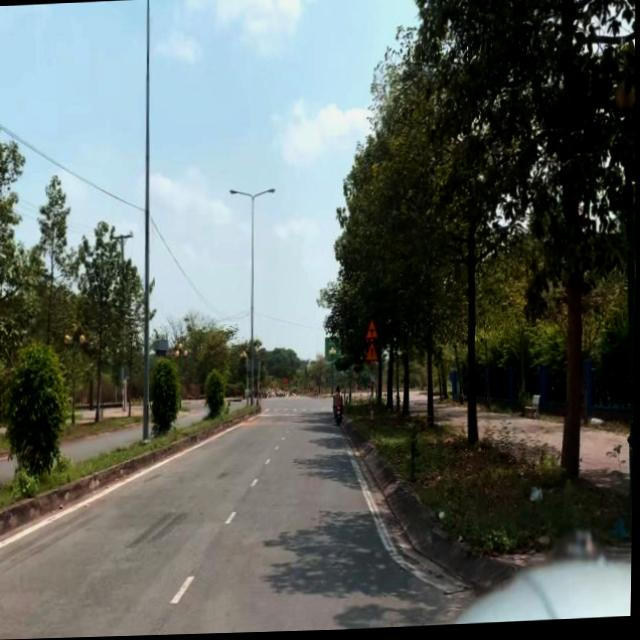Duong giao nhau cung cap: (366, 320, 380, 342)
Nguoi di bo cat ngang: (365, 342, 379, 365)
